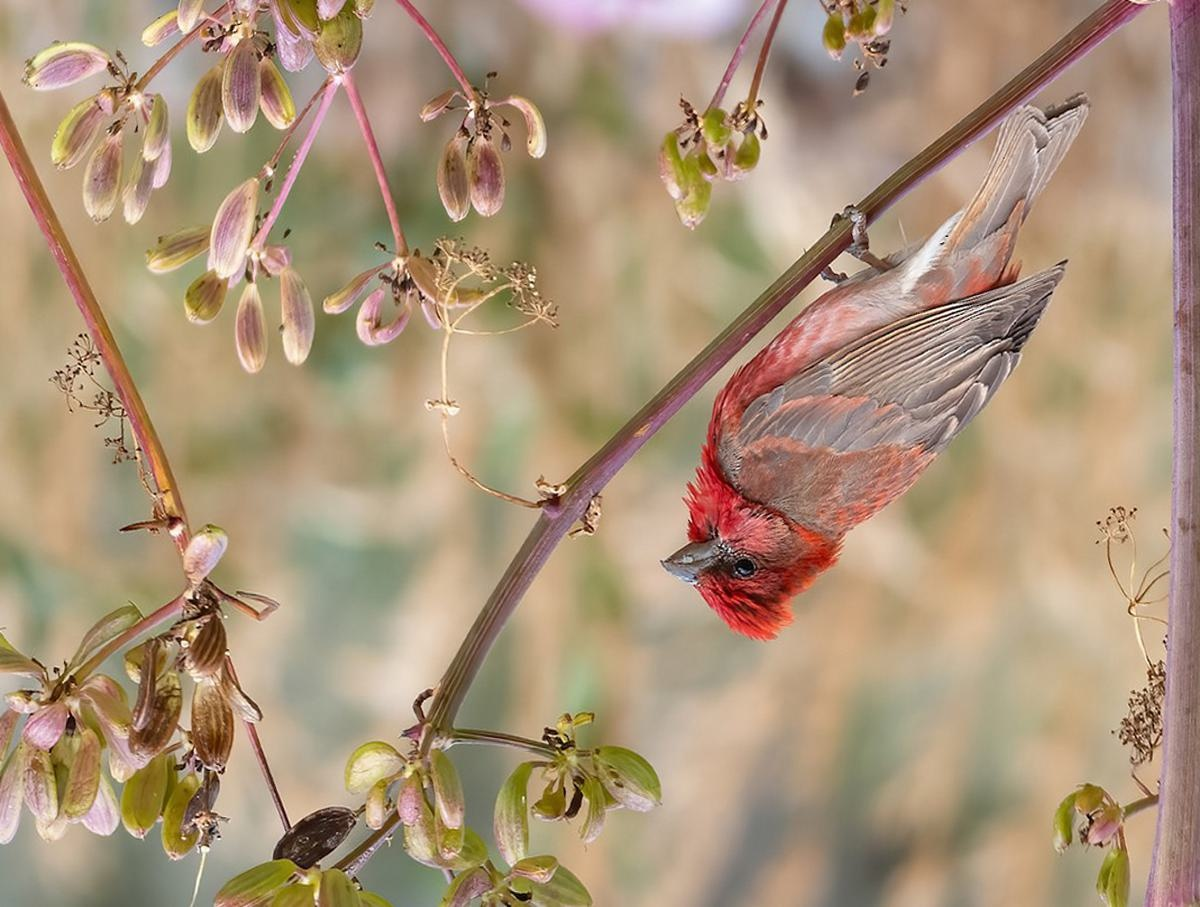rosefinch: (661, 76, 1106, 659)
